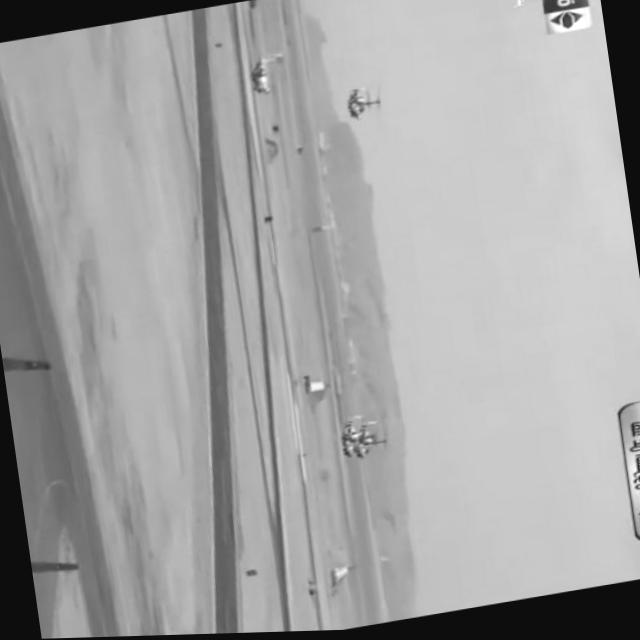helikopter: (323, 393, 409, 473), (324, 65, 418, 133)
